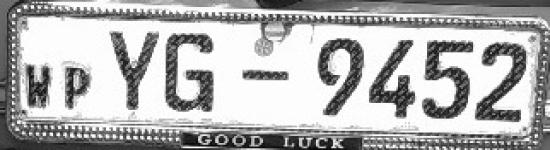-: (230, 64, 295, 90)
2: (475, 35, 529, 127)
4: (362, 33, 420, 125)
5: (420, 32, 475, 125)
9: (306, 30, 366, 122)
G: (162, 28, 218, 116)
P: (58, 64, 94, 114)
W: (23, 61, 53, 115)
Y: (98, 25, 163, 117)
